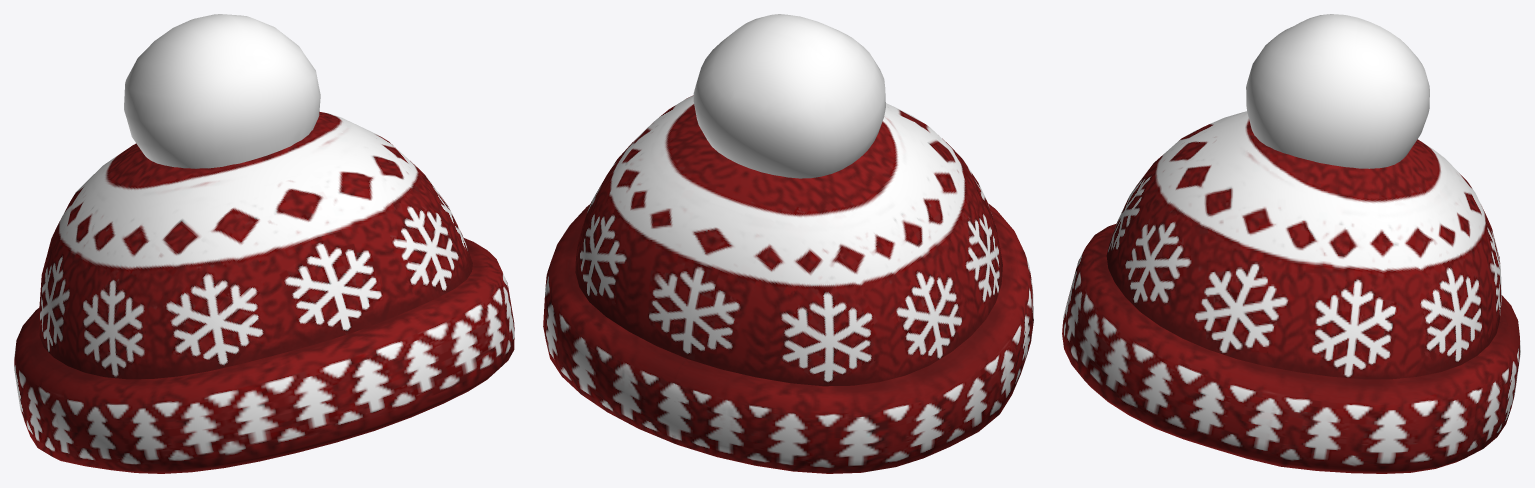
Rendered from doodad_winter_hat.fbx.
3 renders of one model, left to right at view 1: azimuth 30°, elevation 25°; view 2: azimuth 150°, elevation 25°; view 3: azimuth 270°, elevation 25°, orthographic. The views are drawn at different scales.
Parts seen in each view (by area): view 1: doodad_winter_hat; view 2: doodad_winter_hat; view 3: doodad_winter_hat.
Boxes of the visible parts, <box> form: doodad_winter_hat: <box>14,14,514,473</box>; doodad_winter_hat: <box>543,14,1033,473</box>; doodad_winter_hat: <box>1062,14,1520,473</box>.
Bounding box in the file's own units: 0.2397 × 0.2074 × 0.2222.
